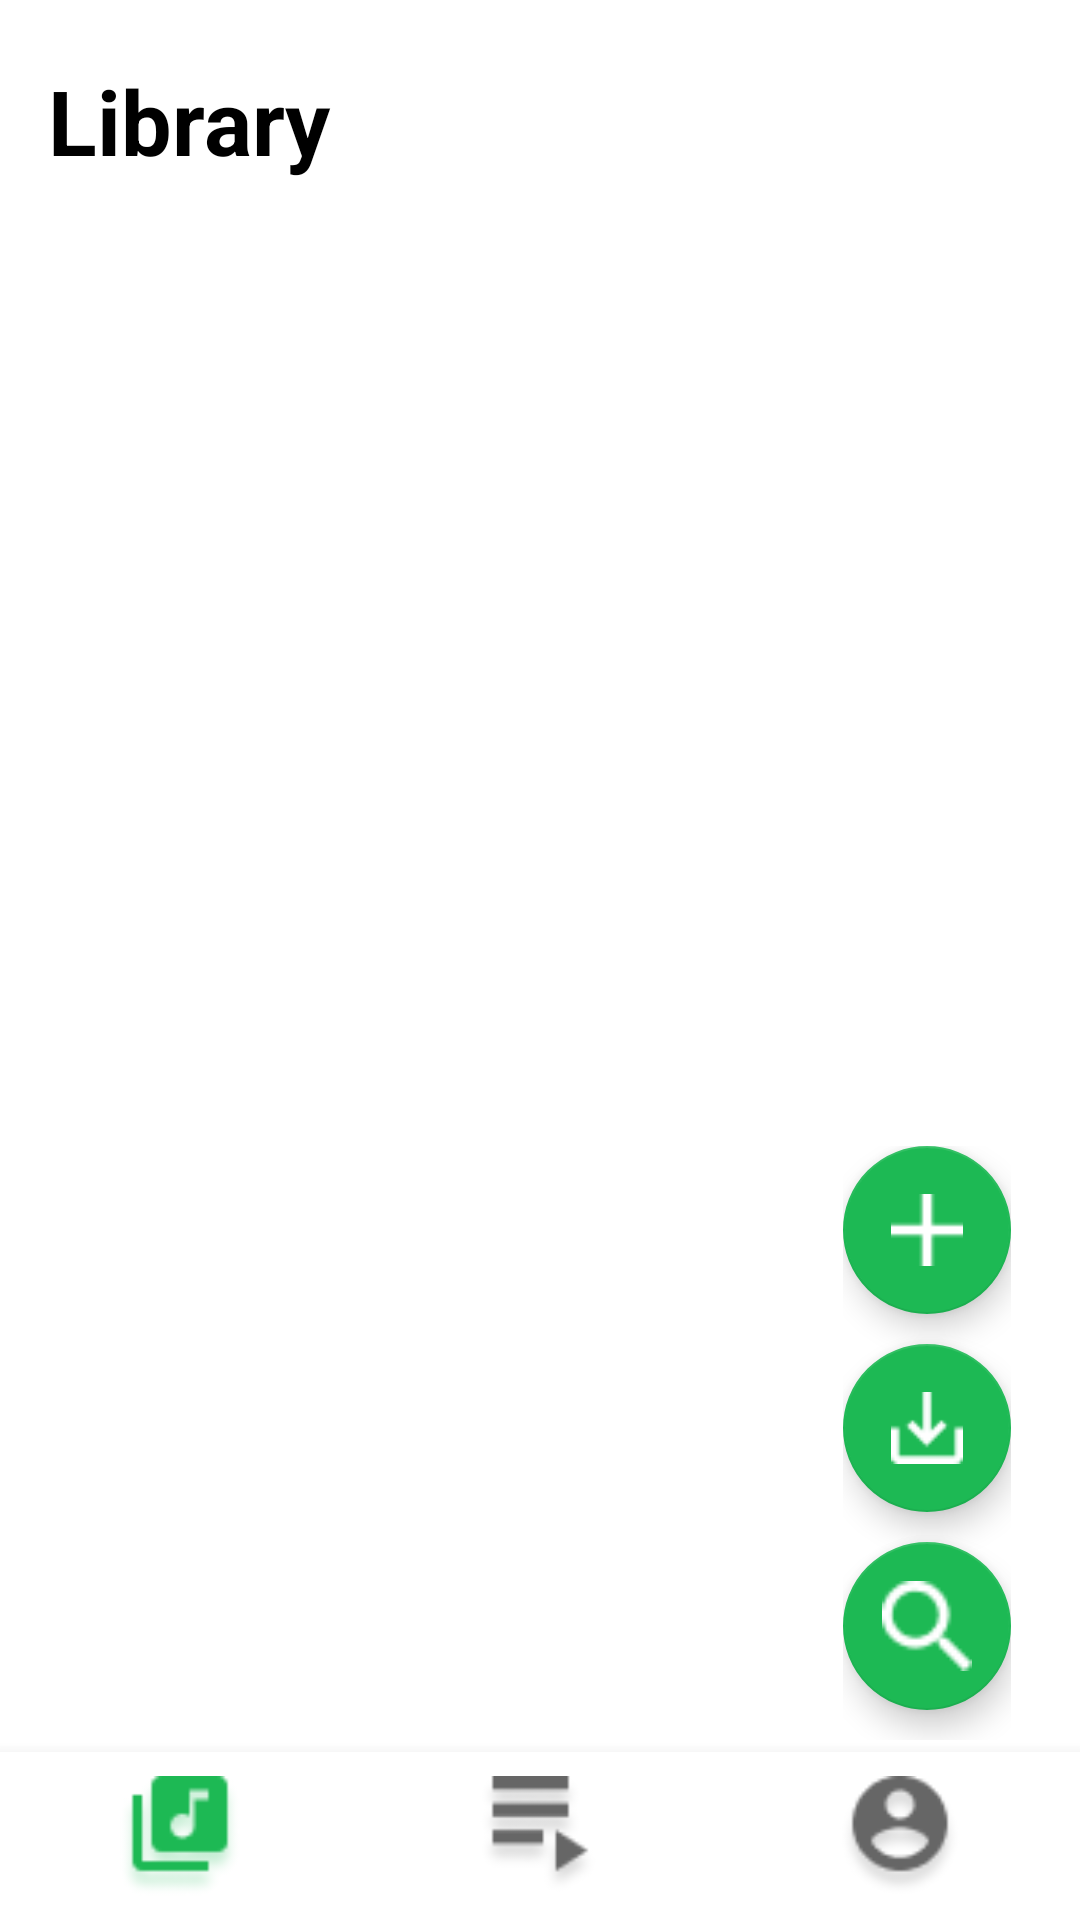

Screen size 1080×1920. Icon name, then its box in pixels as bbox=(x1, y1, x2, y2):
add: bbox=(843, 1146, 1011, 1314)
download: bbox=(843, 1344, 1011, 1512)
search: bbox=(843, 1542, 1011, 1710)
